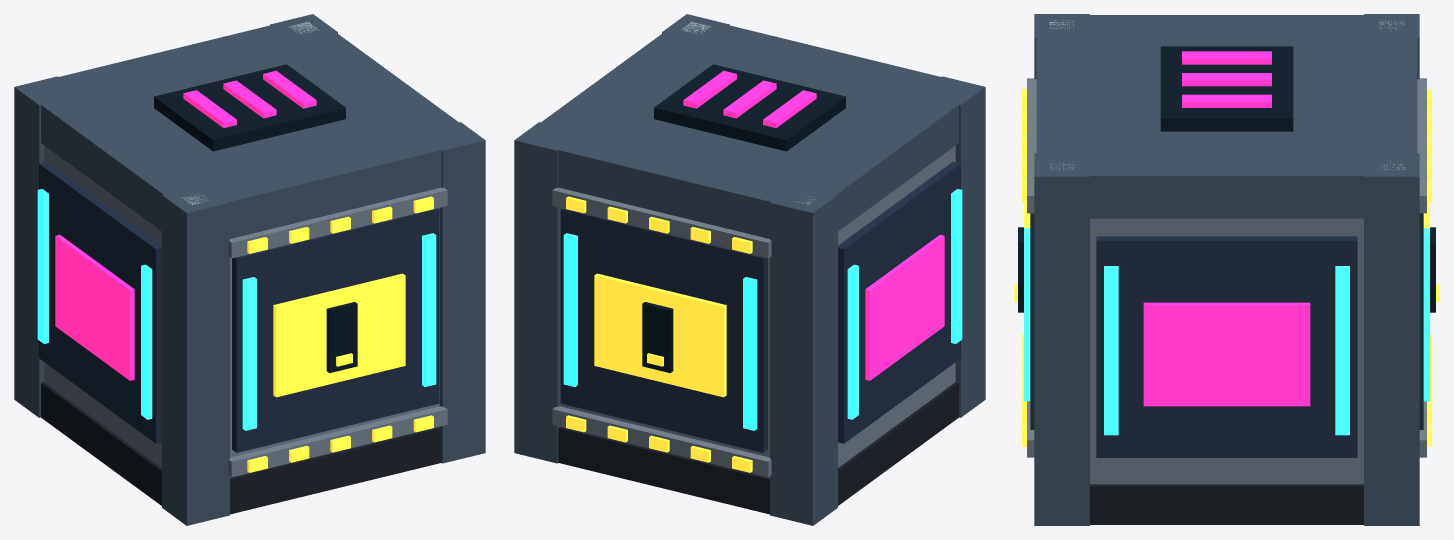
Rendered from crate.glb.
3 views of the same model, side by side, from view 1: azimuth 30°, elevation 25°; view 2: azimuth 150°, elevation 25°; view 3: azimuth 270°, elevation 25° (orthographic). The views are drawn at different scales.
Parts seen in each view (by area): view 1: VOLTA EXPLOSIVE CELL; view 2: VOLTA EXPLOSIVE CELL; view 3: VOLTA EXPLOSIVE CELL.
Boxes of the visible parts, x1=… form: VOLTA EXPLOSIVE CELL: x1=14, y1=14, x2=485, y2=525; VOLTA EXPLOSIVE CELL: x1=514, y1=14, x2=985, y2=525; VOLTA EXPLOSIVE CELL: x1=1014, y1=14, x2=1439, y2=525.
Size of the model in its own units: 0.948 by 0.9485 by 0.993.
